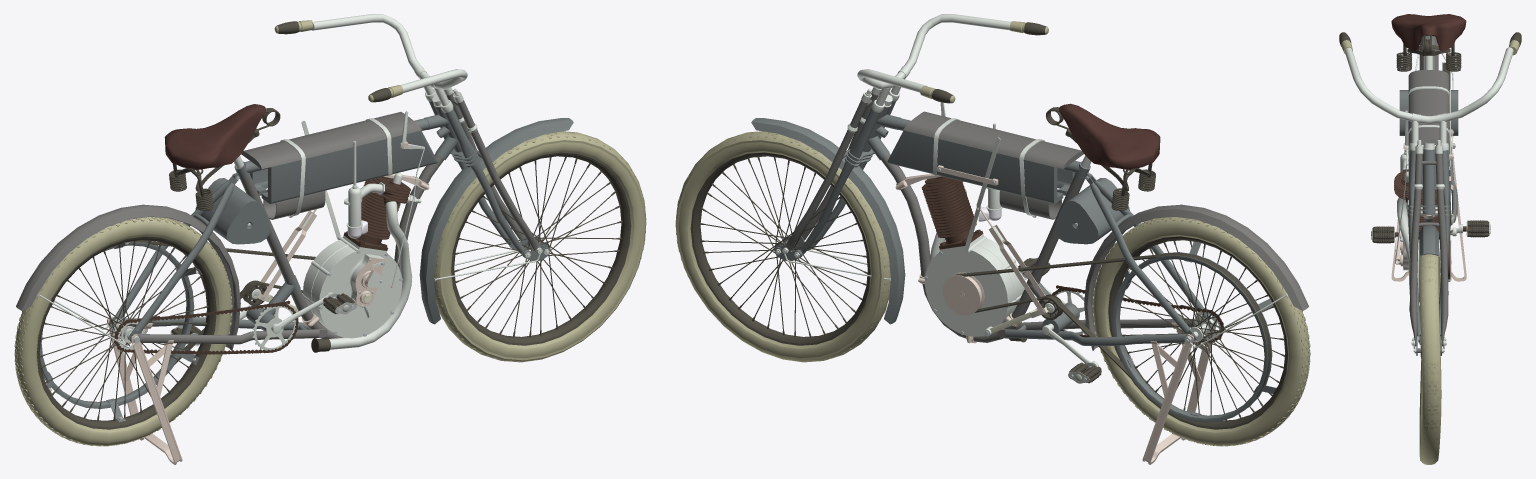
3 views of the same model, side by side, from view 1: azimuth 30°, elevation 25°; view 2: azimuth 150°, elevation 25°; view 3: azimuth 270°, elevation 25° (orthographic). The views are drawn at different scales.
Visible parts, largest first — view 1: Circle_0, Circle.001_19, Circle.017_11, Circle.031_20, Cube.005_26, Circle.002_1, Circle.015_9, Circle.005_8, Cube.001_13, Cube.004_25, Cube.020_187, Cube.002_14 (+19 smaller); view 2: Circle_0, Circle.001_19, Circle.017_11, Circle.031_20, Cube.005_26, Circle.002_1, Circle.015_9, Circle.005_8, Cube.001_13, Cube.004_25, Circle.006_2, Cube.020_187 (+17 smaller); view 3: Circle_0, Circle.038_29, Cube.004_25, Cube.001_13, Circle.011_6, Circle.012_18, Circle.030_33, Circle.044_31, Cube.002_14, Circle.037_195, Circle.005_8, Circle.021_15 (+12 smaller).
Boxes of the visible parts, x1,y1,x2,y2 form: Circle_0: [434, 131, 646, 362]; Circle.001_19: [15, 217, 231, 446]; Circle.017_11: [451, 152, 631, 345]; Circle.031_20: [37, 236, 216, 429]; Cube.005_26: [250, 130, 437, 203]; Circle.002_1: [303, 235, 402, 338]; Circle.015_9: [16, 204, 240, 350]; Circle.005_8: [419, 118, 573, 324]; Cube.001_13: [164, 104, 265, 169]; Cube.004_25: [241, 112, 421, 169]; Cube.020_187: [107, 316, 182, 464]; Cube.002_14: [195, 178, 270, 244]; Circle_0: [675, 131, 890, 362]; Circle.001_19: [1093, 217, 1309, 446]; Circle.017_11: [690, 152, 870, 345]; Circle.031_20: [1108, 236, 1288, 429]; Cube.005_26: [887, 130, 1074, 203]; Circle.002_1: [924, 234, 1023, 336]; Circle.015_9: [1084, 204, 1308, 350]; Circle.005_8: [751, 118, 905, 324]; Cube.001_13: [1059, 103, 1160, 169]; Cube.004_25: [903, 111, 1083, 168]; Circle.006_2: [1112, 252, 1272, 422]; Cube.020_187: [1142, 317, 1217, 464]; Circle_0: [1419, 248, 1441, 464]; Circle.038_29: [1409, 153, 1448, 346]; Cube.004_25: [1408, 70, 1448, 147]; Cube.001_13: [1391, 14, 1466, 51]; Circle.011_6: [1344, 47, 1513, 123]; Circle.012_18: [1408, 150, 1449, 342]; Circle.030_33: [1422, 149, 1435, 213]; Circle.044_31: [1422, 254, 1438, 462]; Cube.002_14: [1399, 90, 1458, 135]; Circle.037_195: [1396, 35, 1461, 71]; Circle.005_8: [1419, 225, 1438, 344]; Circle.021_15: [1397, 197, 1419, 312].
Bounding box in the file's own units: 2.08 × 1.11 × 0.5617.
